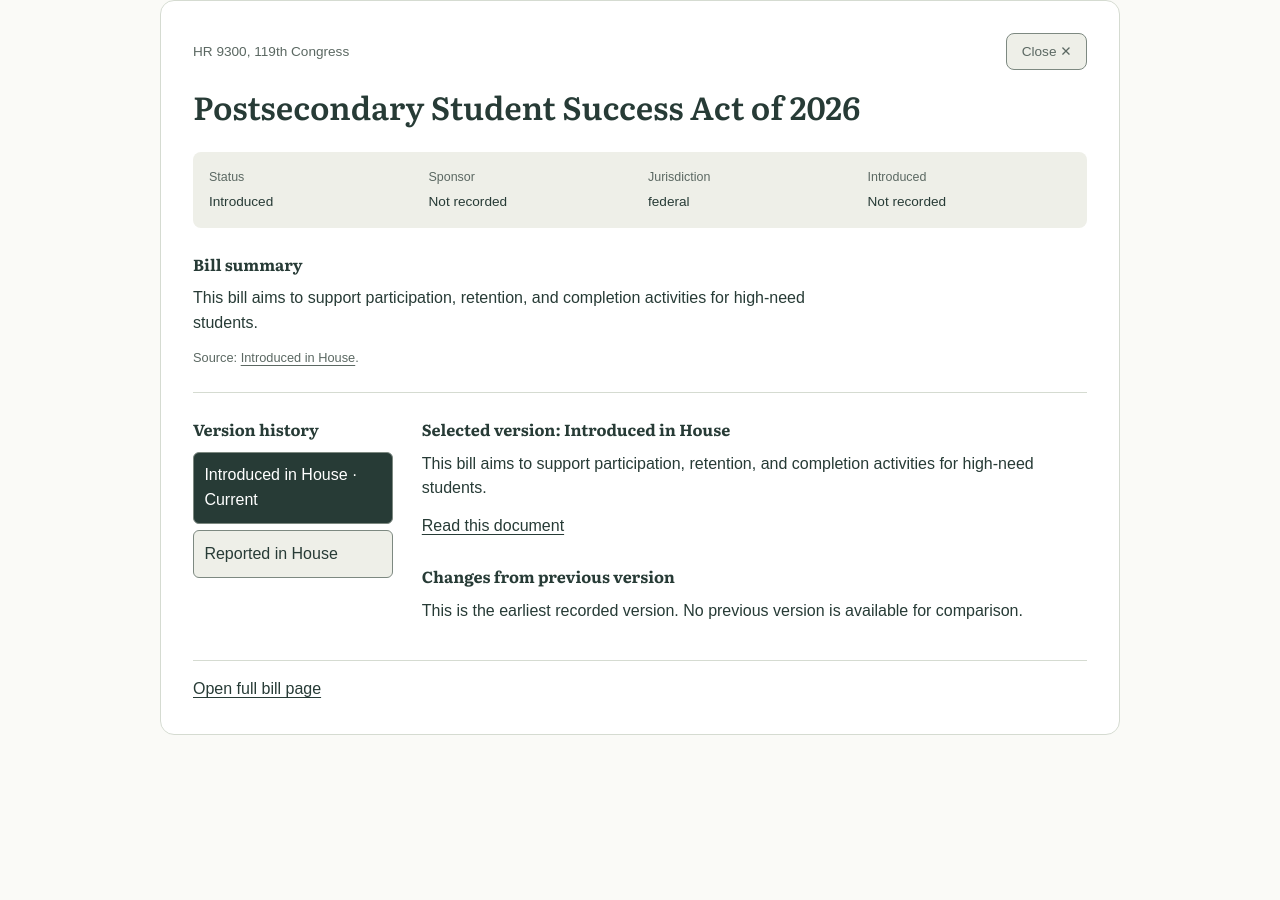
does not assign the current document synopsis to a different selected version
Expected: the heading "Selected version: Introduced in House" is shown, [422,417,730,441]
Click the button "Reported in House" at {"x": 293, "y": 554}, box [193,530,393,578]
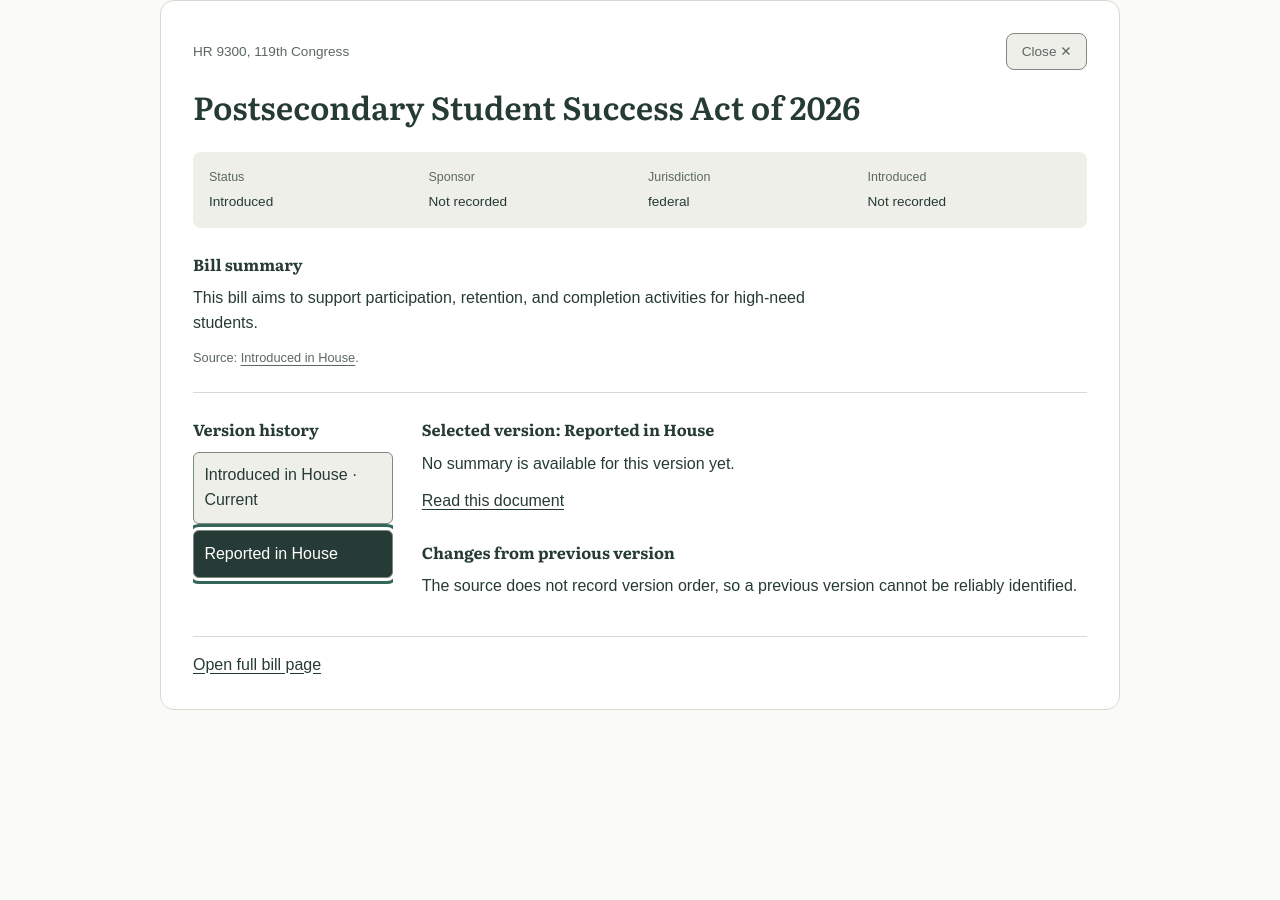
Expected: the text "No summary is available for this version yet." is shown, [422,455,735,472]
